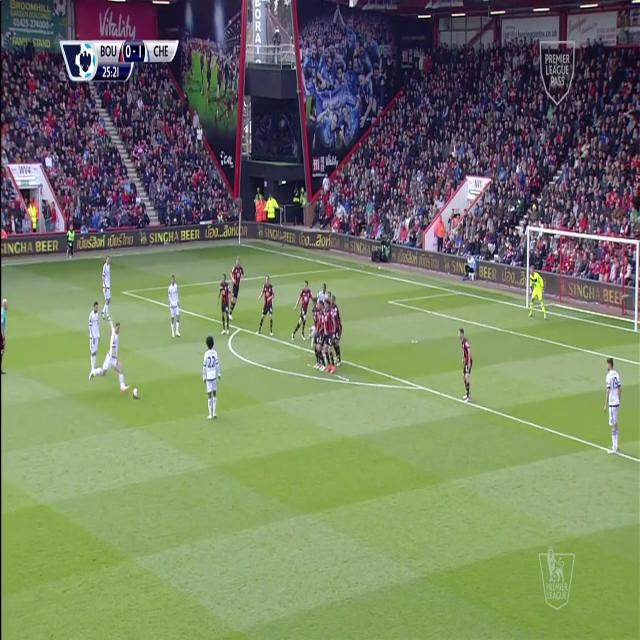Ball: (131, 384, 140, 402)
Goalkeeper: (526, 264, 549, 326)
Player: (88, 321, 127, 390), (602, 356, 625, 455), (201, 335, 224, 426), (455, 328, 475, 403), (254, 270, 276, 338), (290, 280, 313, 342), (165, 273, 183, 342), (87, 298, 102, 378), (229, 254, 246, 324), (216, 273, 234, 335), (323, 298, 336, 377), (100, 252, 112, 322), (317, 296, 325, 374)
Referee: (0, 296, 9, 376)
